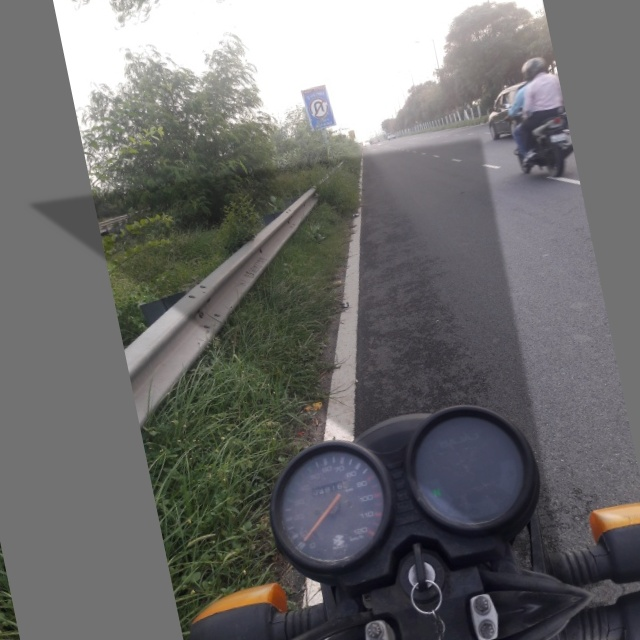U_Turn_Prohibited: (303, 87, 337, 128)
